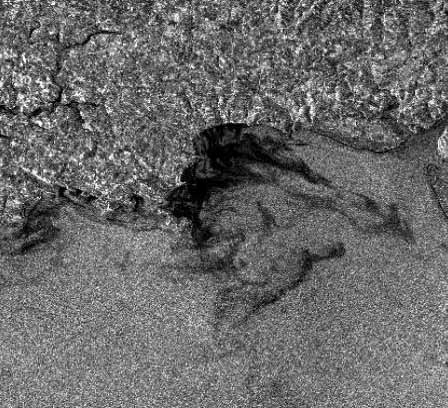anomaly: (161, 120, 385, 316)
